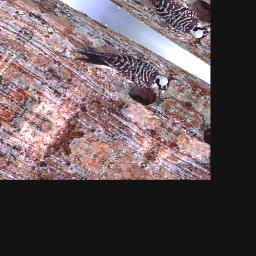Woodpecker: (73, 30, 176, 108)
